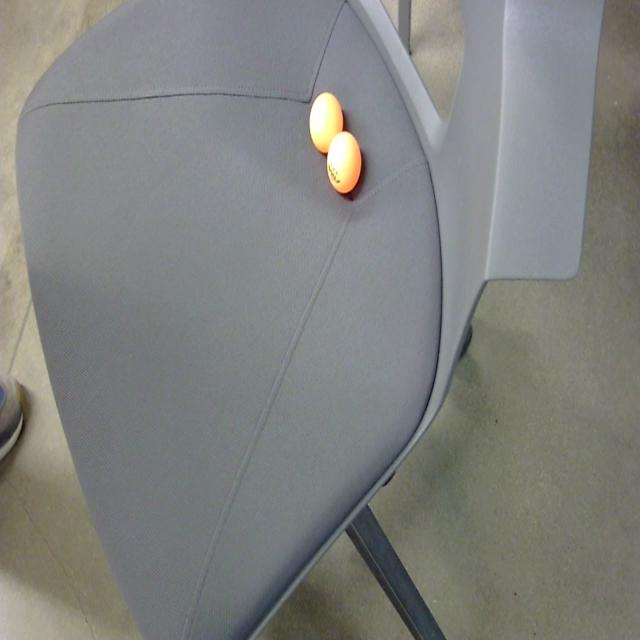ball: (326, 130, 364, 197), (310, 90, 344, 156)
